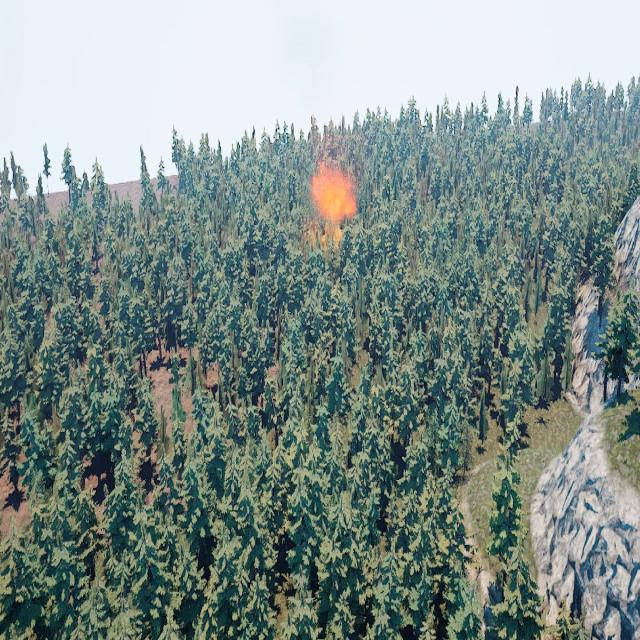fire: (310, 165, 358, 248)
